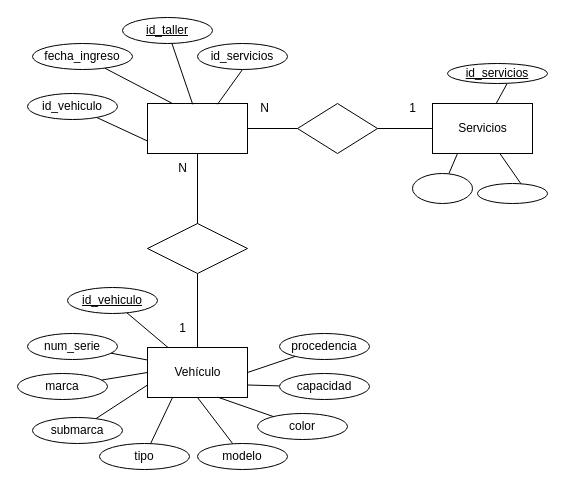
Some shapes in this 565 by 487 pixel diagram are drawn without their labels. Here are the shapes that lost their labels. From the top down, the box of each, then its label:
(146, 102, 248, 154): Prestación_Taller
(296, 102, 378, 154): Ejerce
(412, 172, 472, 204): Nombre
(476, 182, 548, 204): Costo
(146, 222, 248, 274): Entra
